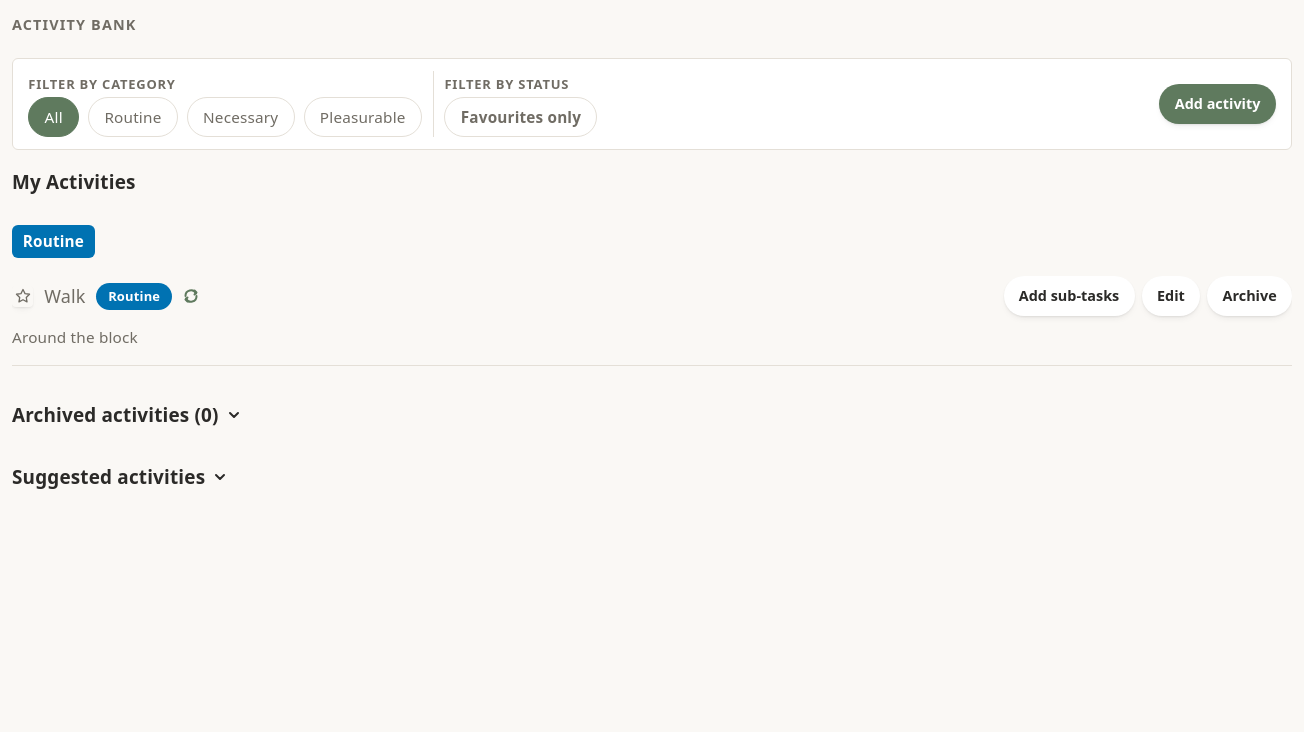
Test: ActivityBank › FRONTEND-003-AC-01/AC-02: expand/collapse toggles the sub-task checklist › renders SubTaskList on expand and removes it on collapse
What coordinates should you click on to do the following:
click the button "Add sub-tasks"
I would click on:
 (1069, 296)
Its box is 1004,276 -> 1134,316.
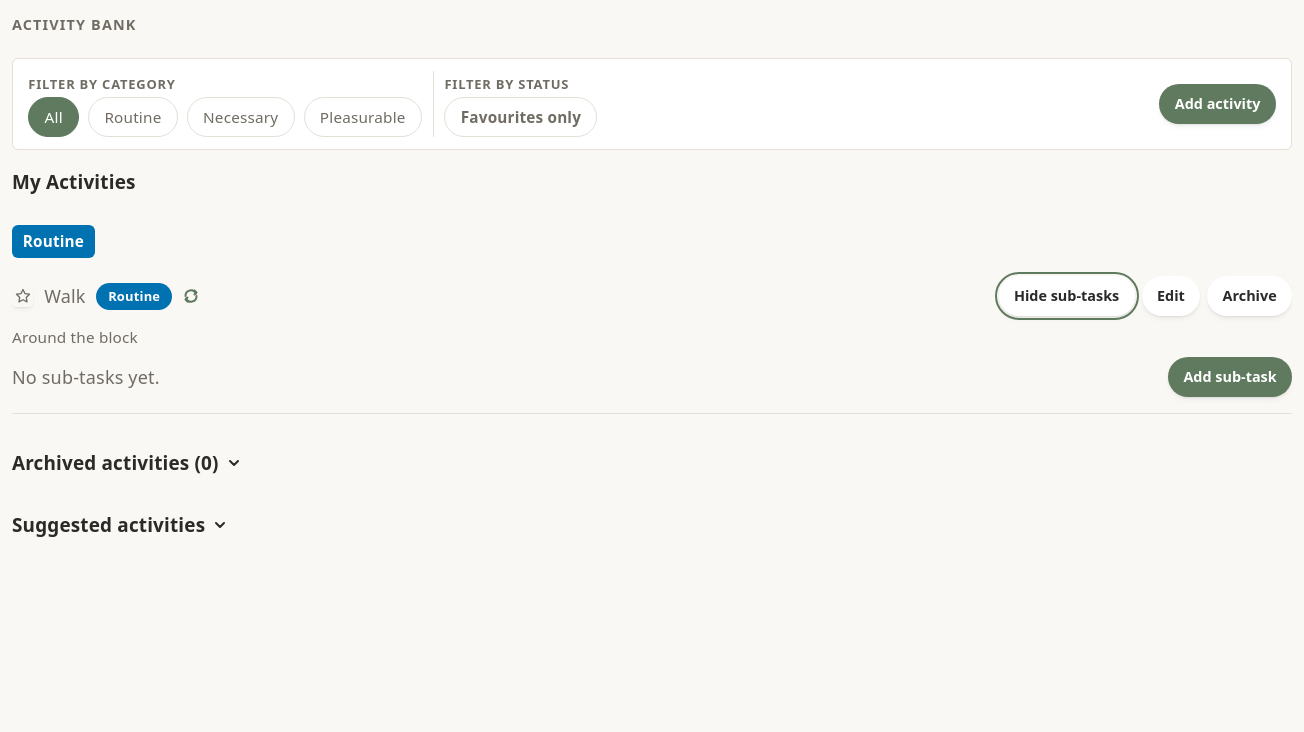
Expected: the text "No sub-tasks yet." is shown, 12,364 -> 160,390
What coordinates should you click on to do the following:
click the button "Hide sub-tasks"
I would click on:
 (1067, 296)
Its box is 999,276 -> 1134,316.
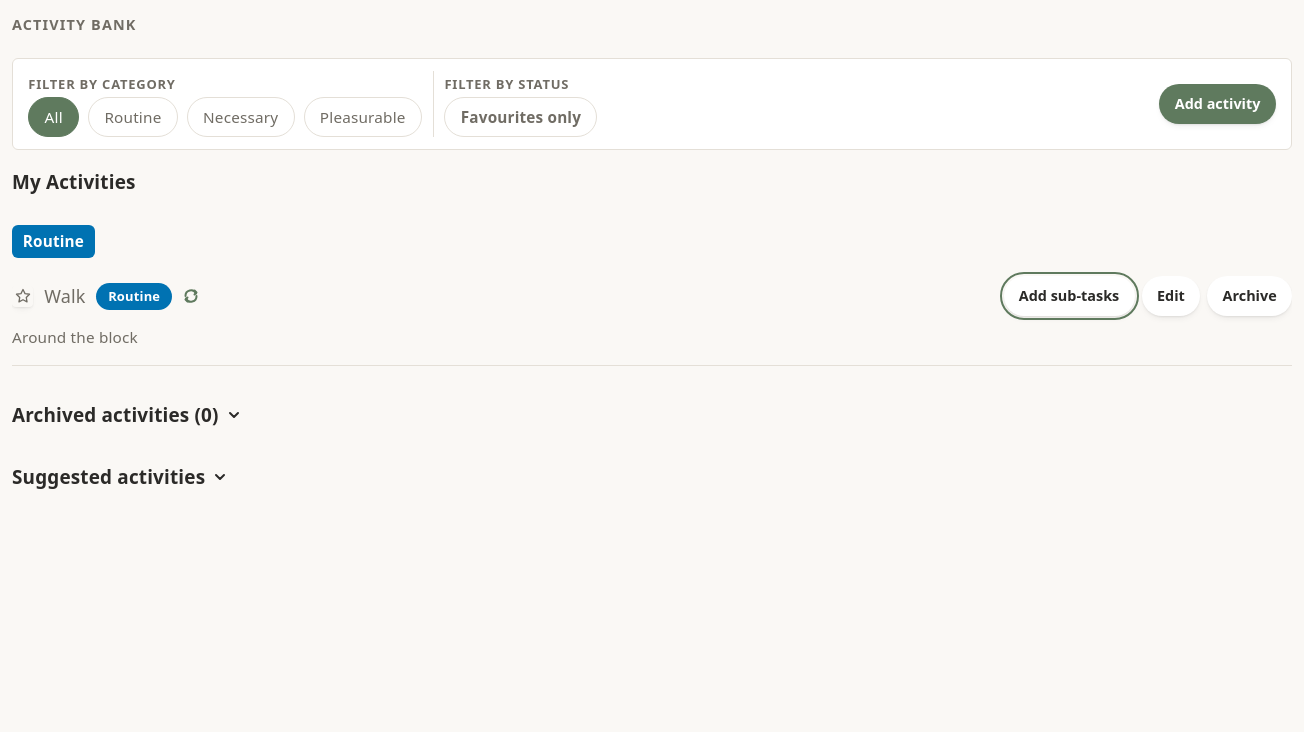
Expected: the text "No sub-tasks yet" is gone
